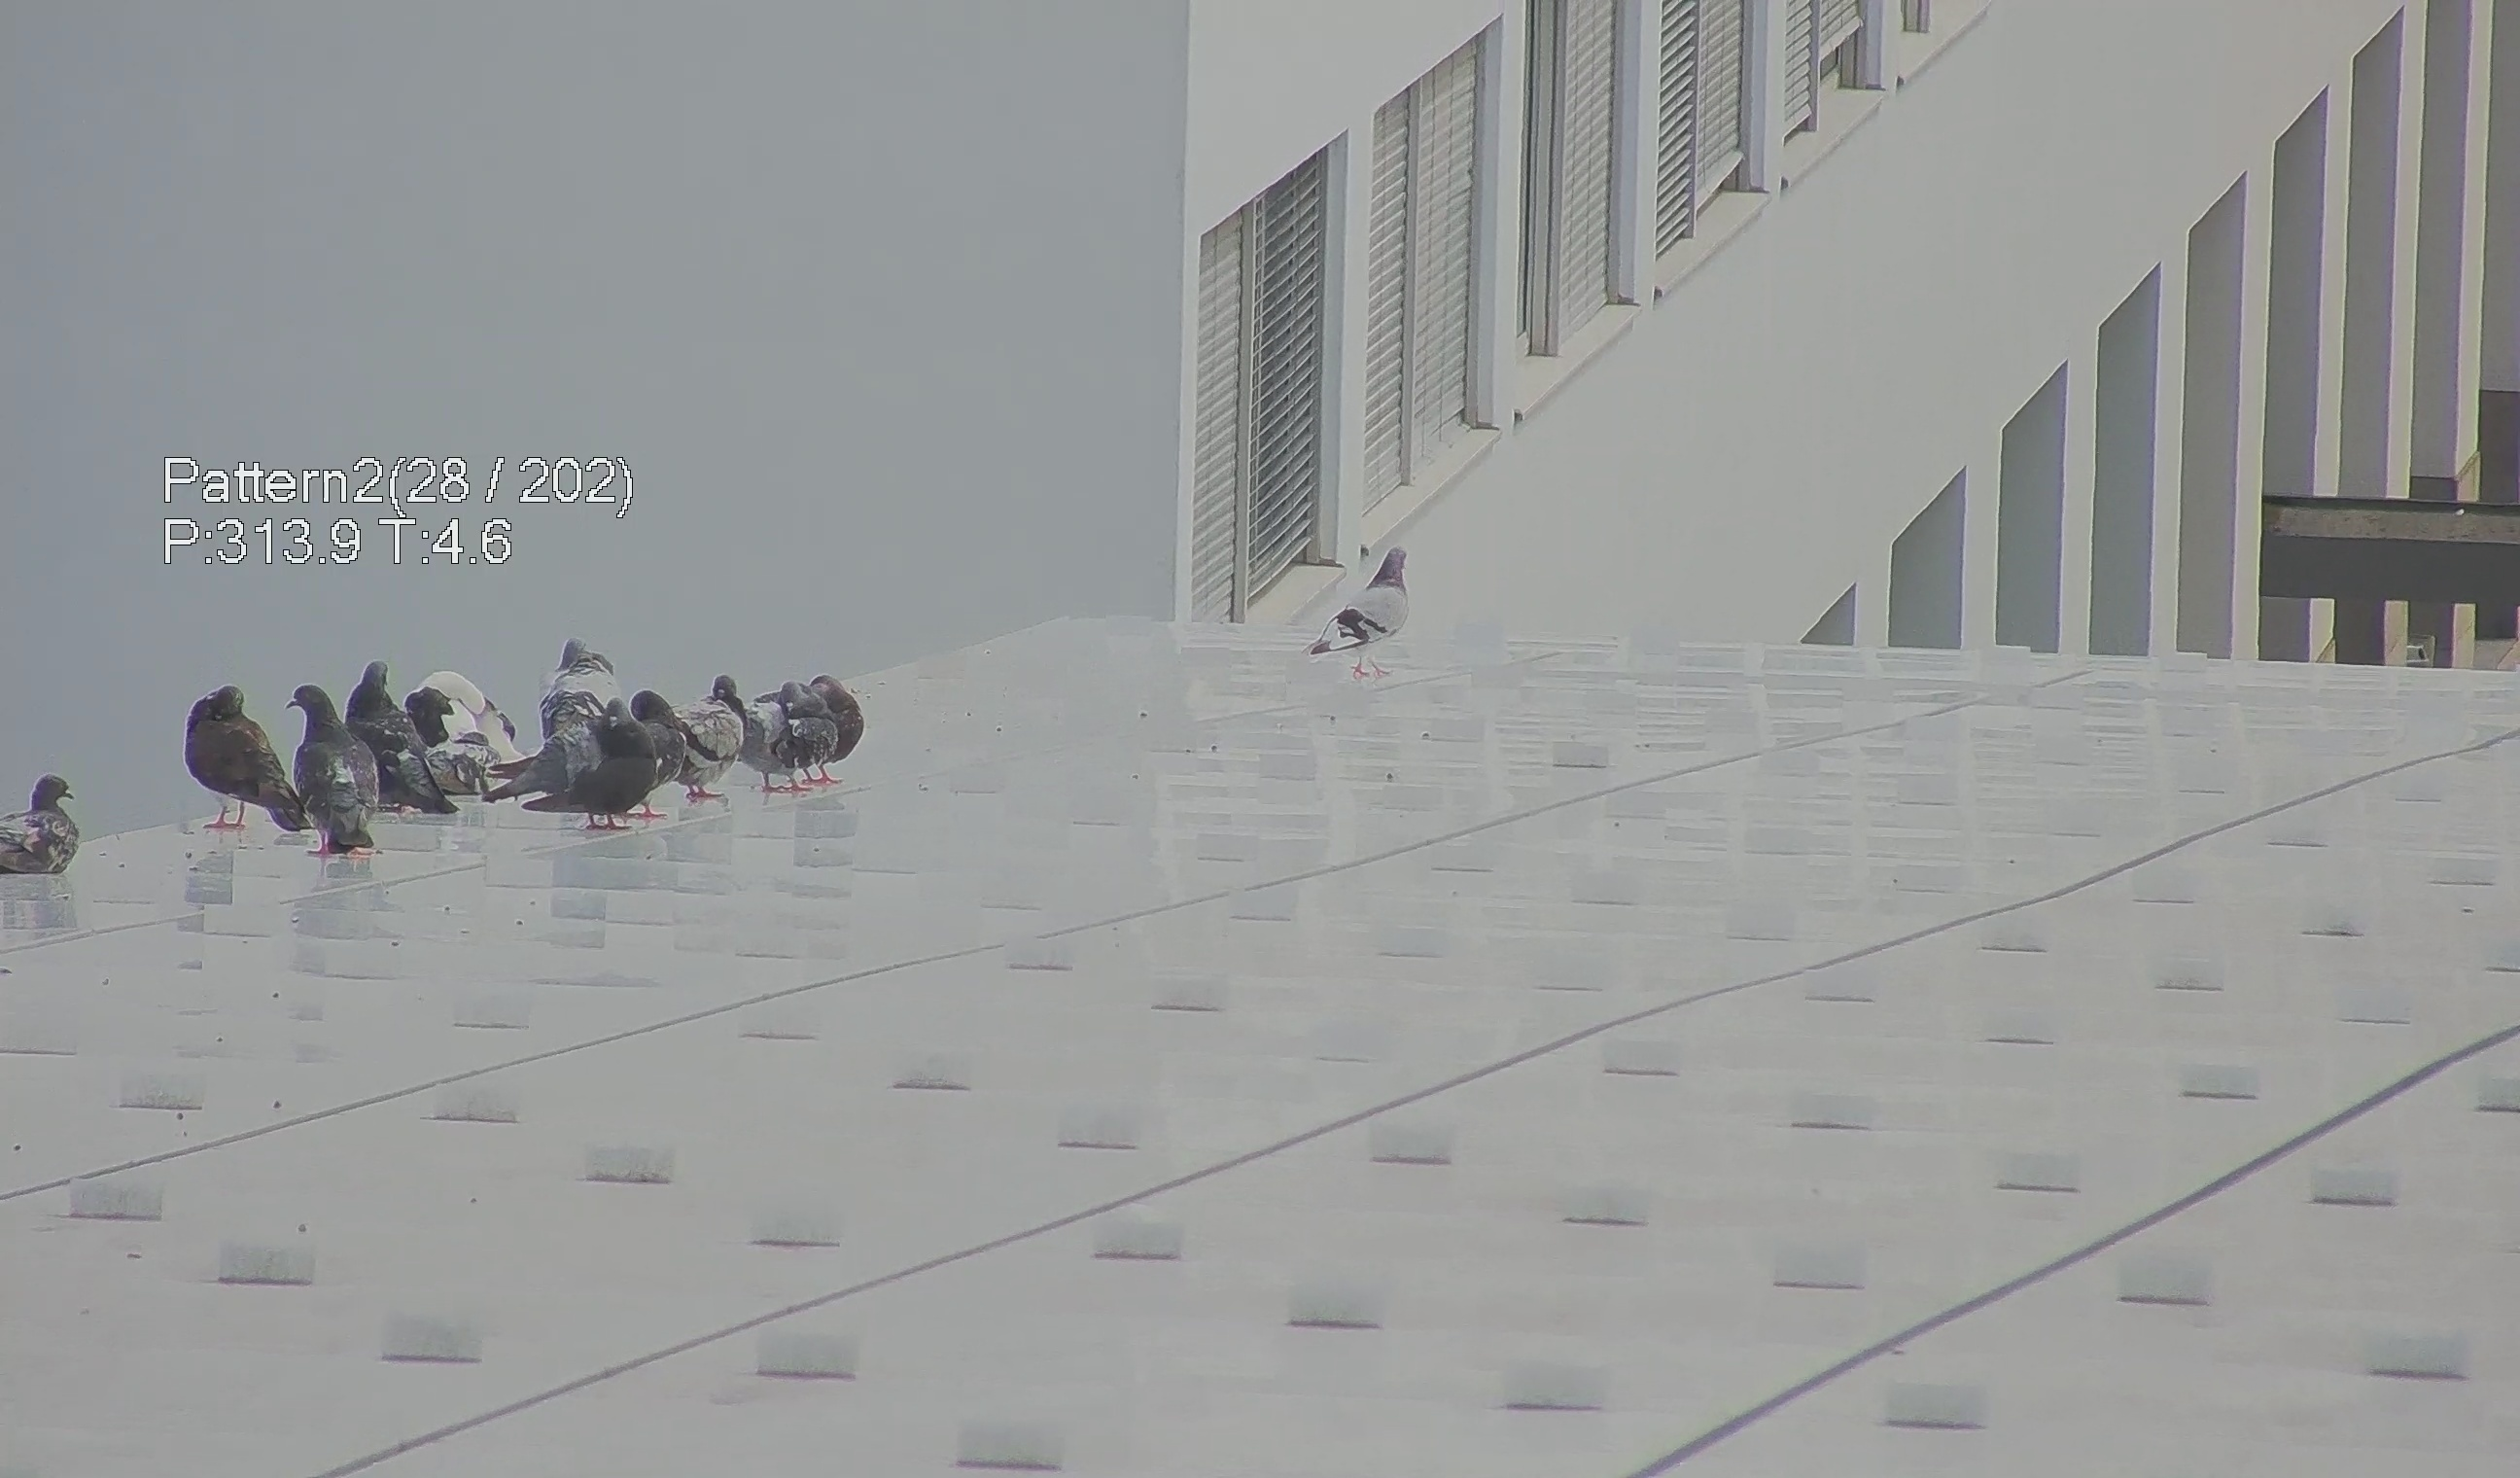Pigeon: (176, 672, 302, 845), (288, 665, 389, 855), (346, 655, 448, 832), (1305, 524, 1426, 670), (538, 688, 658, 822), (624, 663, 735, 799), (403, 669, 542, 772), (744, 670, 841, 806), (536, 639, 649, 734), (2, 762, 90, 866), (807, 658, 878, 783)
